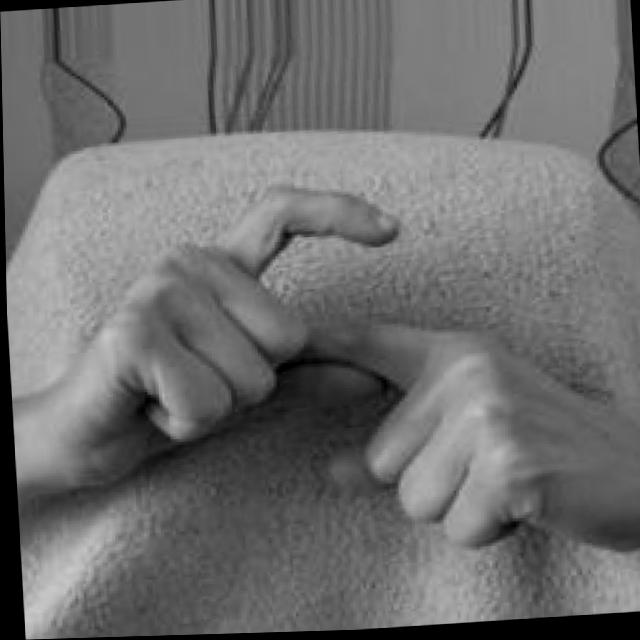S: (41, 158, 640, 600)
